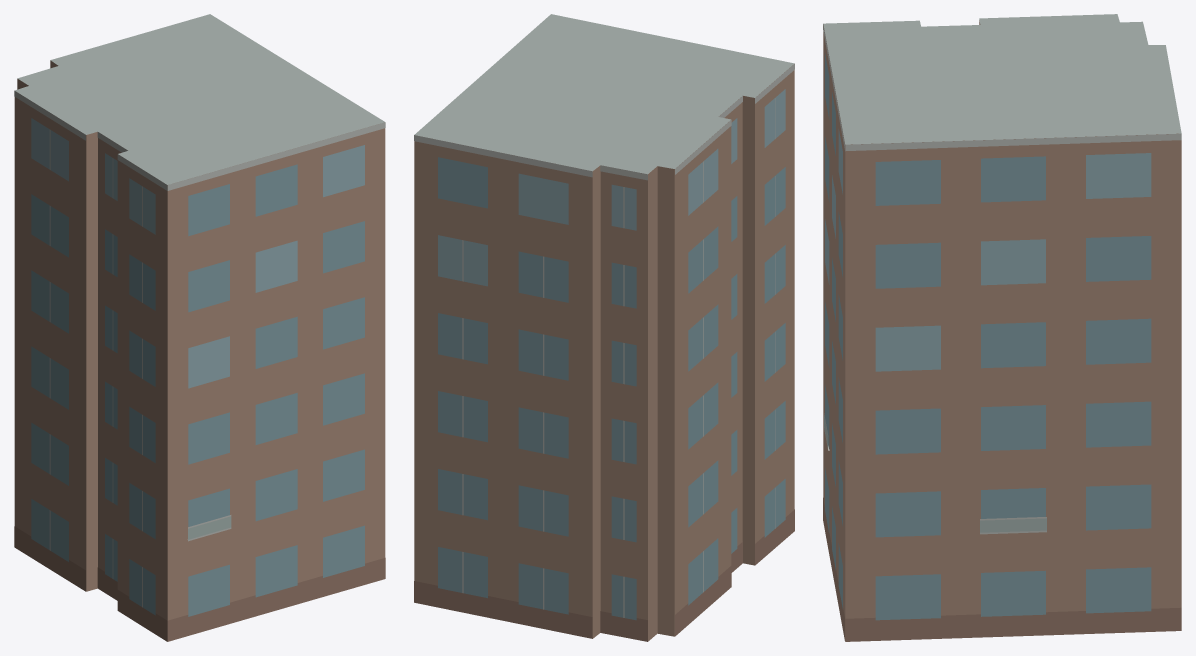
Rendered from survey-upis-32525062.glb.
3 views of the same model, side by side, from view 1: azimuth 30°, elevation 25°; view 2: azimuth 150°, elevation 25°; view 3: azimuth 270°, elevation 25° (orthographic). The views are drawn at different scales.
Parts seen in each view (by area): view 1: survey-upis-32525062.tmp; view 2: survey-upis-32525062.tmp; view 3: survey-upis-32525062.tmp.
Part boxes in pixels (x1=…): survey-upis-32525062.tmp: x1=14, y1=14, x2=385, y2=641; survey-upis-32525062.tmp: x1=414, y1=14, x2=794, y2=641; survey-upis-32525062.tmp: x1=823, y1=14, x2=1181, y2=641.
Bounding box in the file's own units: 10.46 × 18.55 × 12.13.
